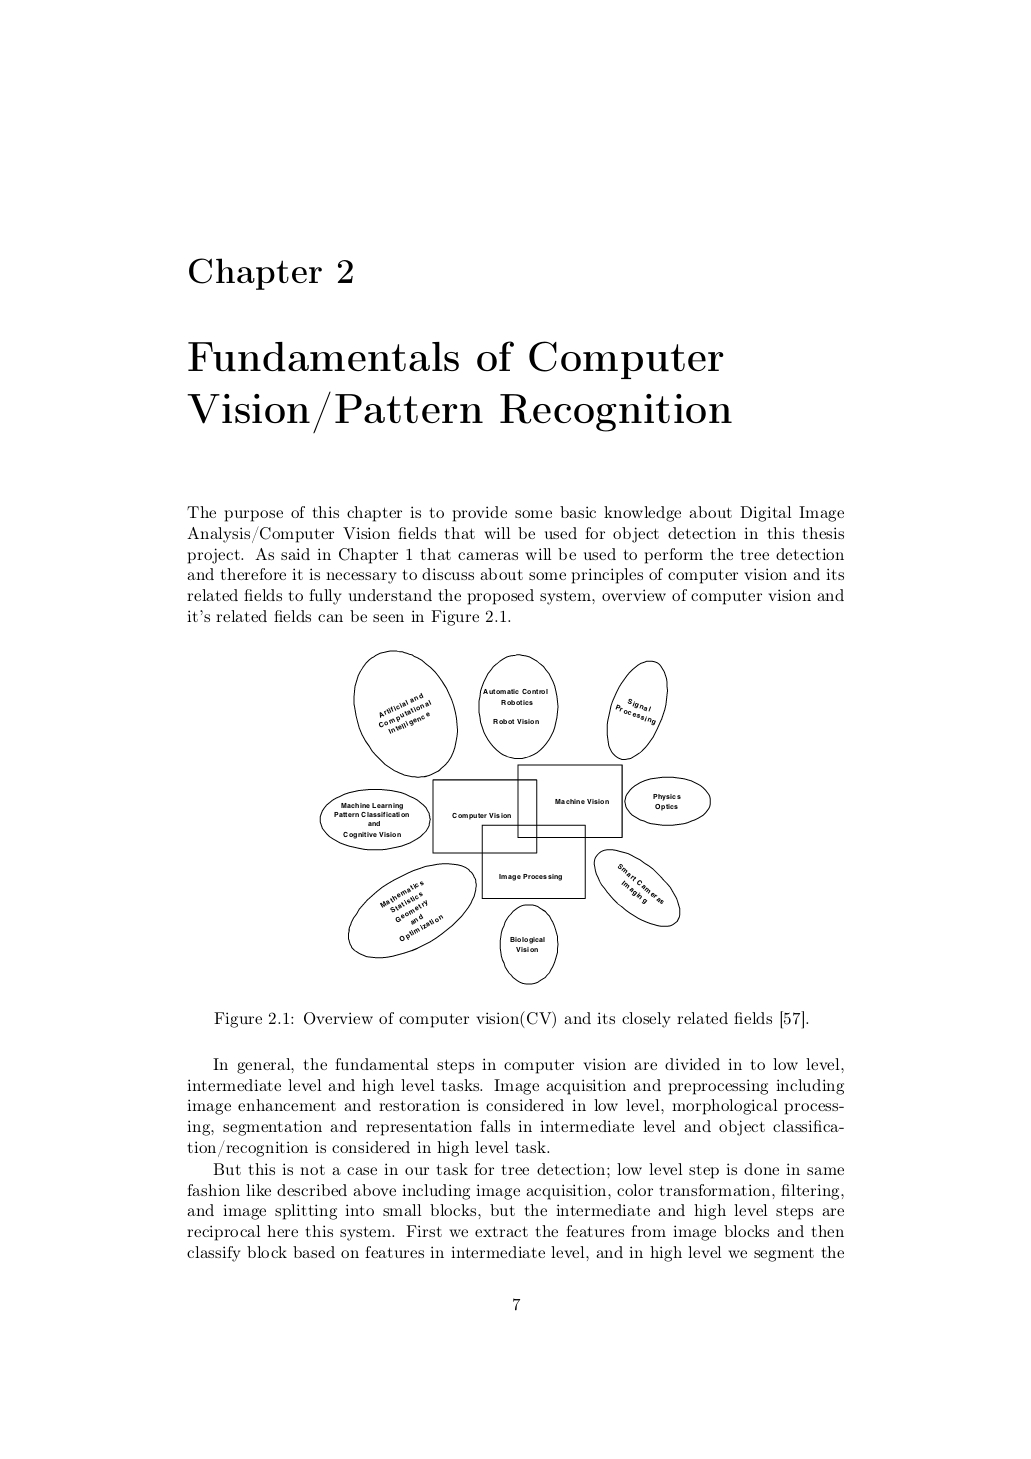figure: (319, 648, 710, 985)
